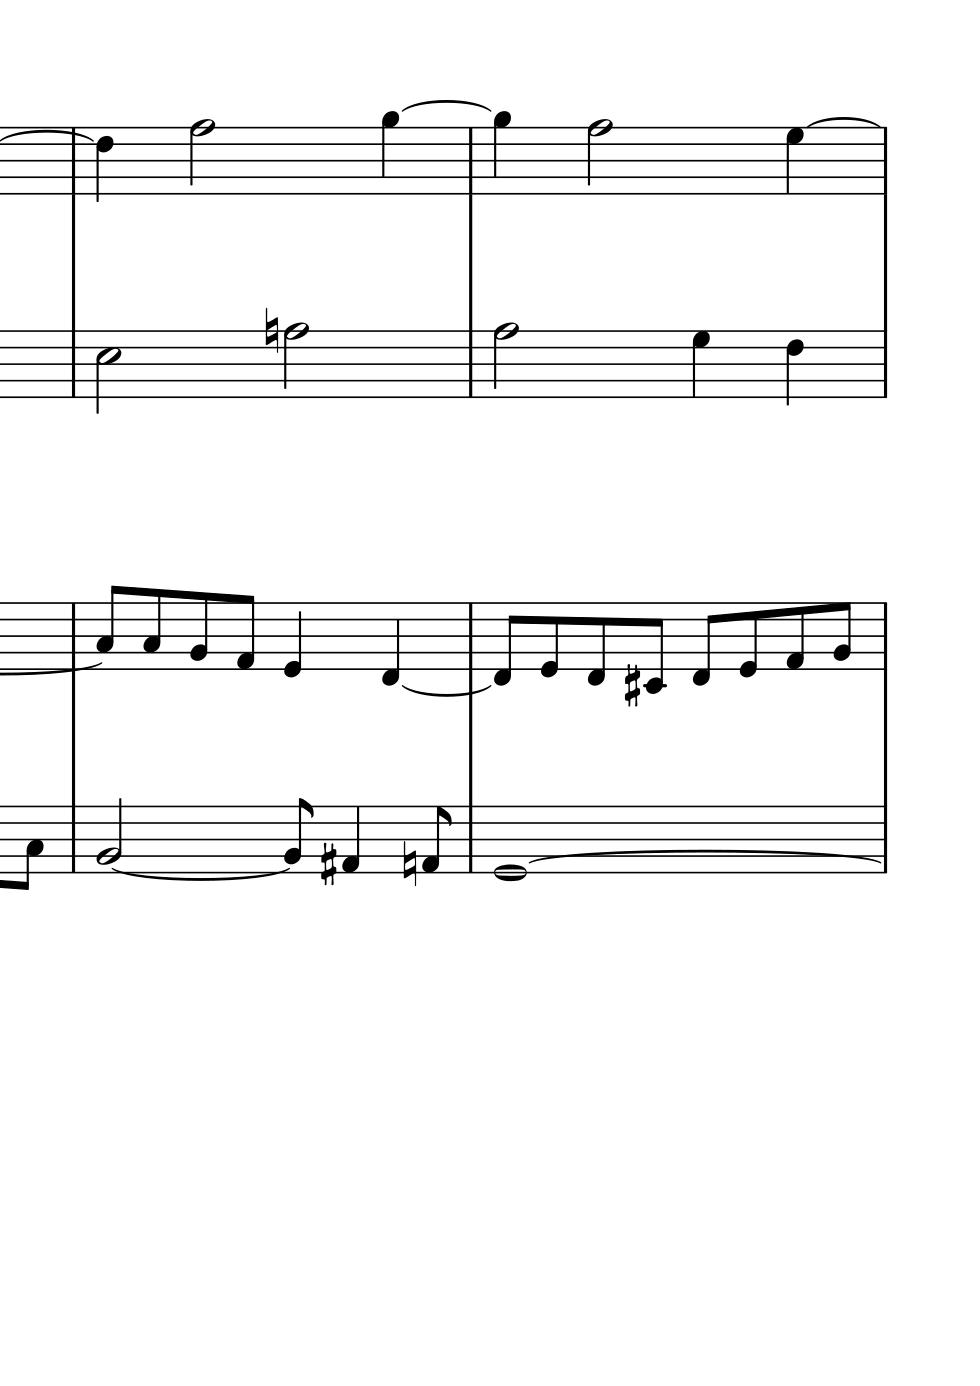1_0: (491, 802, 527, 883)
2_2: (93, 797, 123, 875)
2_5: (92, 328, 120, 416)
2_8: (187, 117, 216, 198), (585, 116, 613, 197), (491, 320, 519, 400), (282, 320, 309, 400)
4_-1: (378, 601, 400, 686)
4_0: (281, 600, 304, 679)
4_1: (340, 804, 361, 875)
4_6: (784, 328, 808, 407), (93, 125, 115, 204)
4_7: (783, 125, 807, 196), (689, 328, 712, 399)
4_9: (491, 110, 513, 197), (379, 110, 400, 197)
8_-1: (490, 600, 520, 688), (689, 600, 718, 688), (584, 600, 607, 687)
8_-2: (642, 601, 667, 694)
8_0: (735, 601, 759, 680), (538, 601, 560, 679)
8_1: (420, 803, 453, 875), (232, 592, 256, 673), (782, 600, 806, 672)
8_2: (282, 796, 313, 874), (187, 590, 210, 672), (830, 601, 852, 672)
8_3: (95, 584, 123, 671), (17, 803, 43, 892), (140, 586, 163, 672)
Natural: (262, 305, 279, 355), (401, 839, 417, 887)
Sharp: (622, 662, 641, 708), (319, 841, 337, 888)
Single_barline: (461, 602, 480, 686), (874, 127, 894, 195), (874, 330, 894, 398), (461, 128, 482, 193), (65, 128, 84, 195), (462, 330, 482, 397), (461, 806, 479, 872), (65, 330, 82, 398), (877, 602, 893, 670), (877, 806, 893, 873), (65, 806, 81, 872), (65, 603, 81, 665)
Slur: (528, 849, 881, 864), (109, 867, 288, 883), (401, 98, 494, 112), (801, 116, 883, 129), (401, 684, 490, 697)
